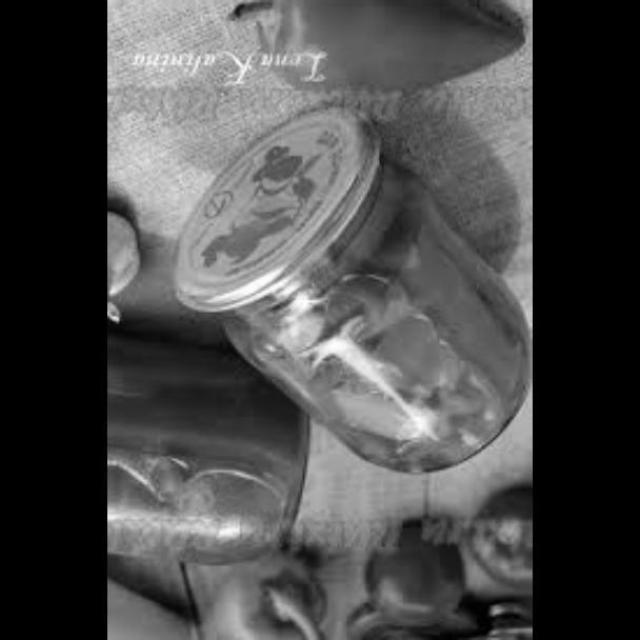ca chua: (365, 526, 467, 636), (471, 489, 534, 610)
ot chuong: (263, 188, 520, 471), (271, 1, 504, 102), (189, 553, 353, 640)
